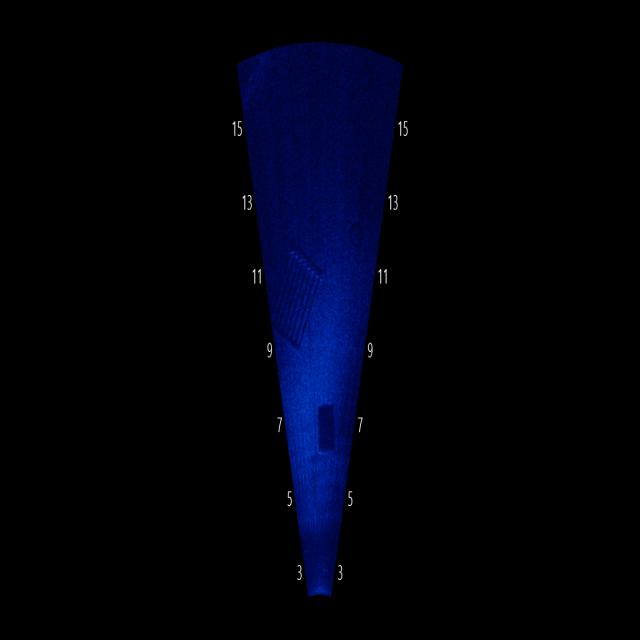square: (269, 240, 327, 368), (314, 395, 340, 464)
